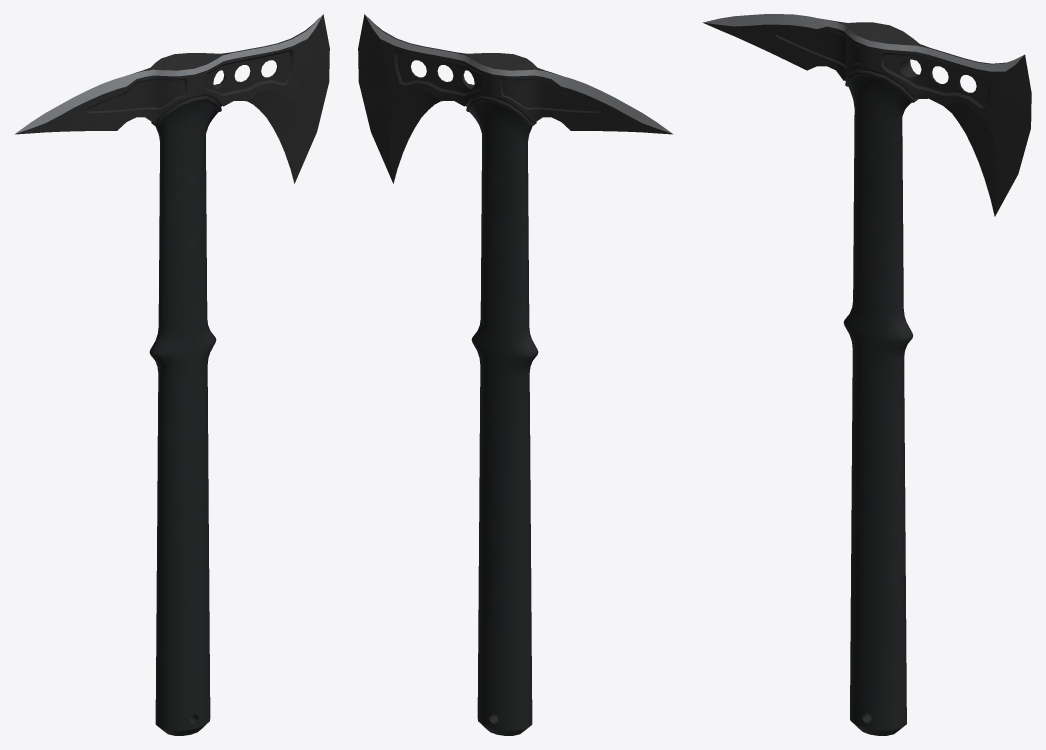
The model's file is tomahawk.glb.
3 renders of one model, left to right at view 1: azimuth 30°, elevation 25°; view 2: azimuth 150°, elevation 25°; view 3: azimuth 330°, elevation 25°, orthographic. The views are drawn at different scales.
Parts seen in each view (by area): view 1: tomahawk_lp_Handle_0, tomahawk_lp_Blade_black_0, tomahawk_lp_Blade_steel_0; view 2: tomahawk_lp_Handle_0, tomahawk_lp_Blade_black_0, tomahawk_lp_Blade_steel_0; view 3: tomahawk_lp_Handle_0, tomahawk_lp_Blade_black_0, tomahawk_lp_Blade_steel_0.
Part boxes in pixels (x1,y1,x2,y2): tomahawk_lp_Handle_0: (149,96,221,735); tomahawk_lp_Blade_black_0: (15,14,329,183); tomahawk_lp_Blade_steel_0: (15,15,322,133); tomahawk_lp_Handle_0: (466,96,538,735); tomahawk_lp_Blade_black_0: (358,14,672,183); tomahawk_lp_Blade_steel_0: (365,15,672,133); tomahawk_lp_Handle_0: (843,70,918,735); tomahawk_lp_Blade_black_0: (703,18,1031,216); tomahawk_lp_Blade_steel_0: (703,14,1024,71).
Bounding box in the file's own units: 0.1975 × 0.4067 × 0.0253.
Materials: 3 (3 with a texture image).
